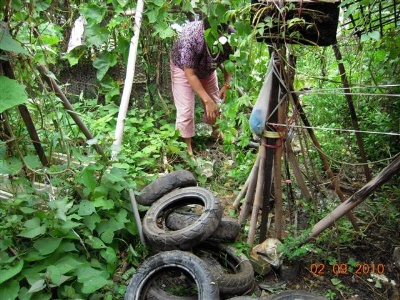tire: (142, 185, 222, 250), (124, 251, 220, 300), (137, 170, 195, 205)
